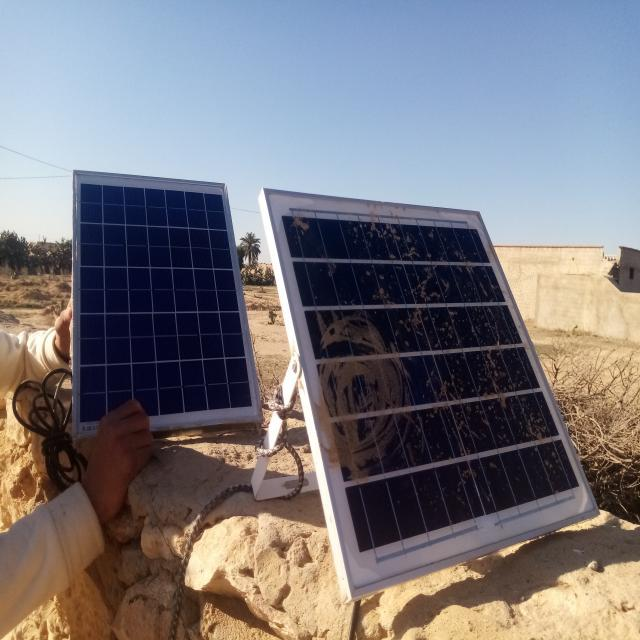faulty: (265, 188, 599, 597)
no faulty: (74, 171, 262, 432)
